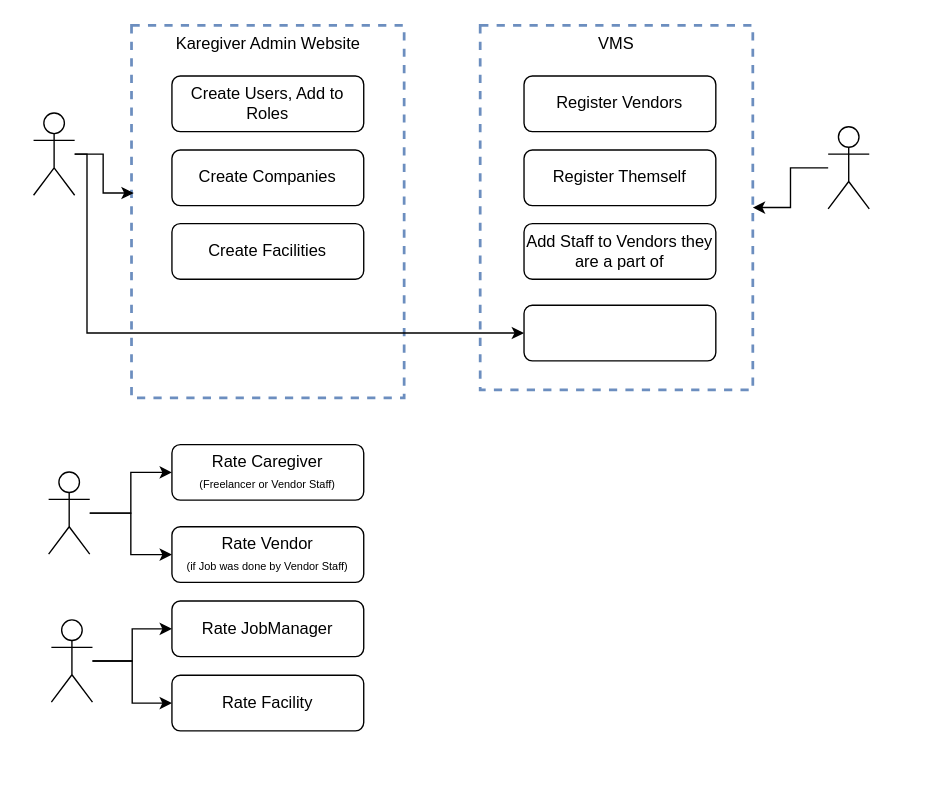
This 930x793 diagram has some shape labels left out. Each missing label, with the centre of its shape:
"Admin" goes at (x=53, y=153).
"Caregiver (Freelancer or Vendor Staff)" goes at (x=71, y=660).
"JobManager" goes at (x=68, y=512).
"Manage all vendors and staff" goes at (x=619, y=332).
"VendorManager" goes at (x=848, y=167).
